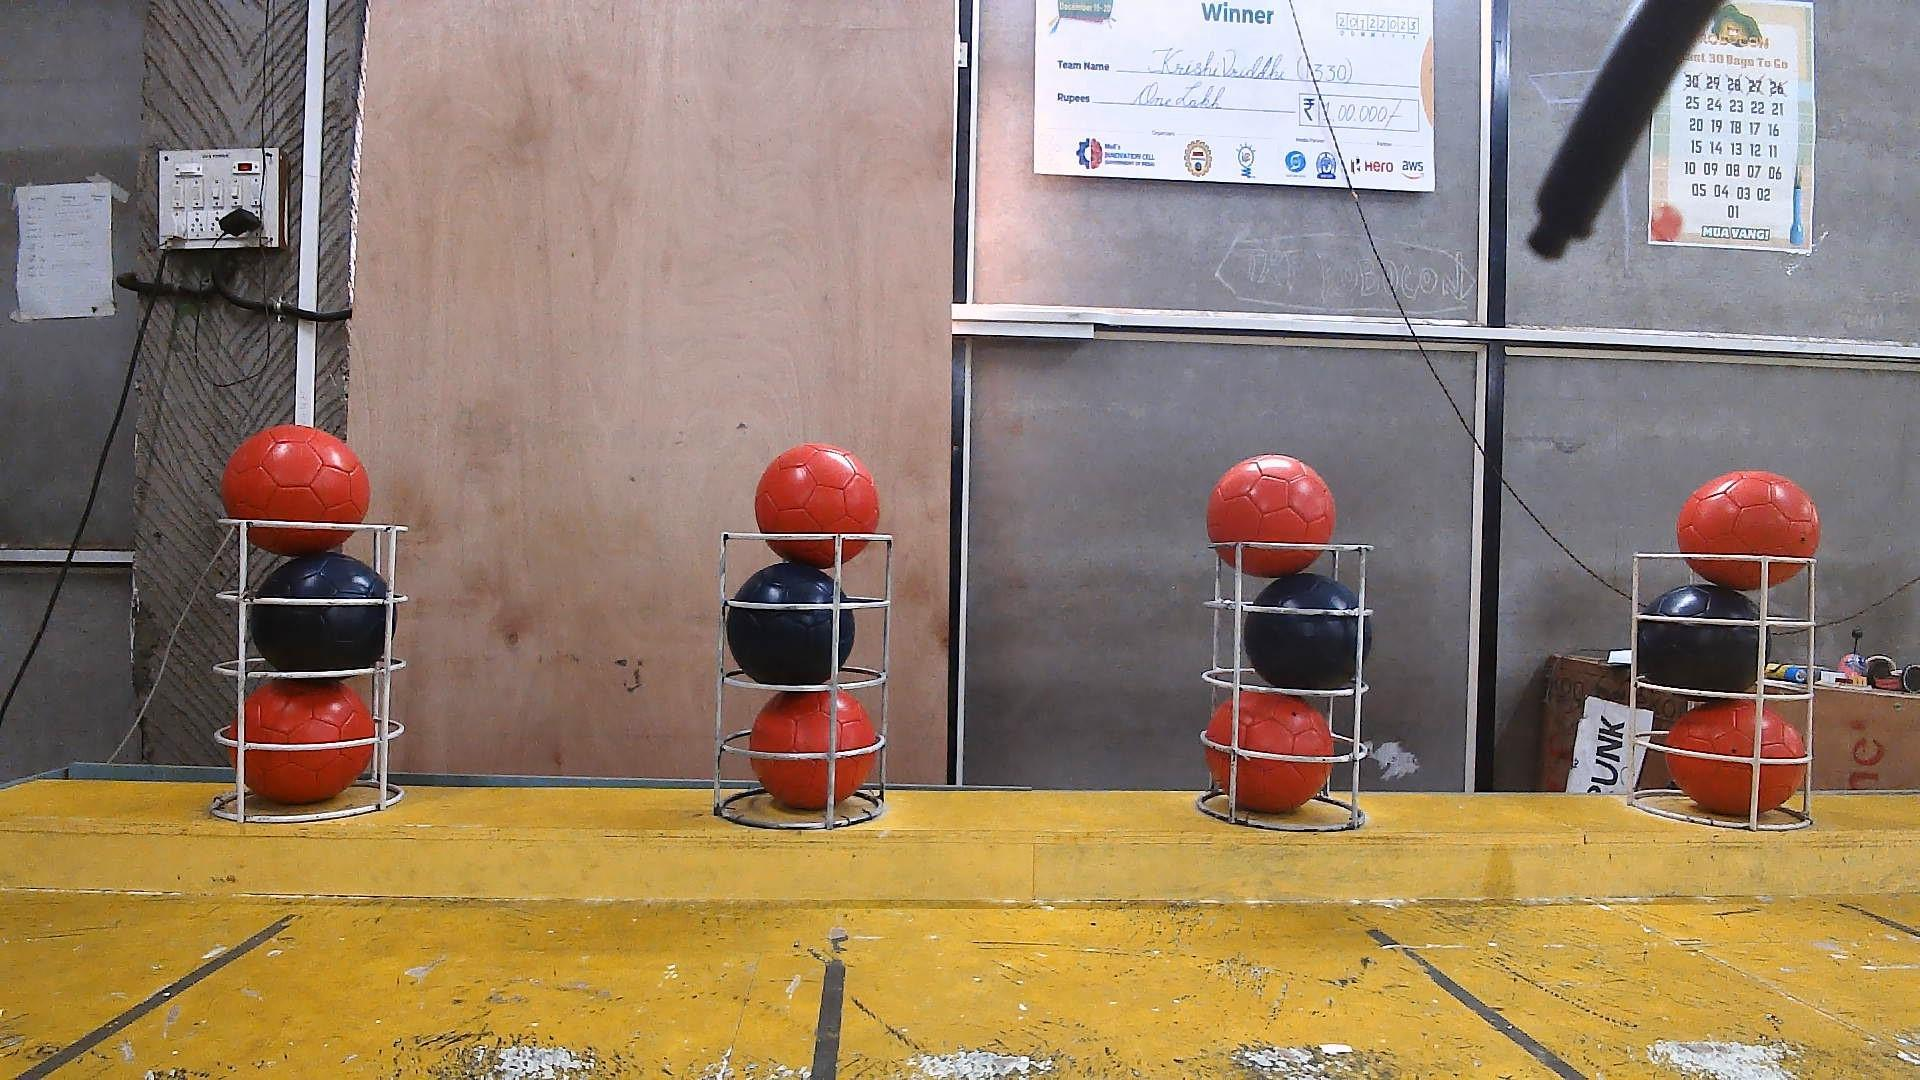dhoka: (252, 551, 397, 671), (728, 563, 855, 686), (1241, 574, 1373, 690), (1635, 585, 1770, 694)
laale: (222, 423, 372, 555), (225, 679, 375, 804), (1676, 468, 1818, 592), (1665, 698, 1808, 818), (1204, 690, 1335, 814), (1208, 454, 1335, 578), (746, 690, 877, 810), (754, 443, 881, 566)
